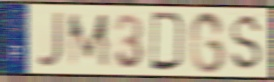3: (112, 11, 146, 71)
D: (149, 10, 187, 73)
G: (188, 10, 227, 76)
J: (35, 10, 65, 70)
M: (66, 11, 112, 69)
S: (228, 12, 265, 74)
